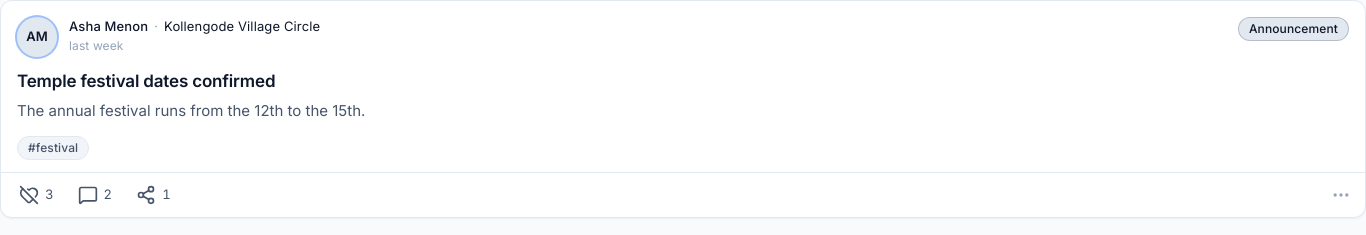
Test case: PostCard › rolls the like back when the request fails
The image size is (1366, 235).
Step 1. Click the button named "like this post" → x=36, y=195, box top-left (9, 179), bottom-right (64, 211)
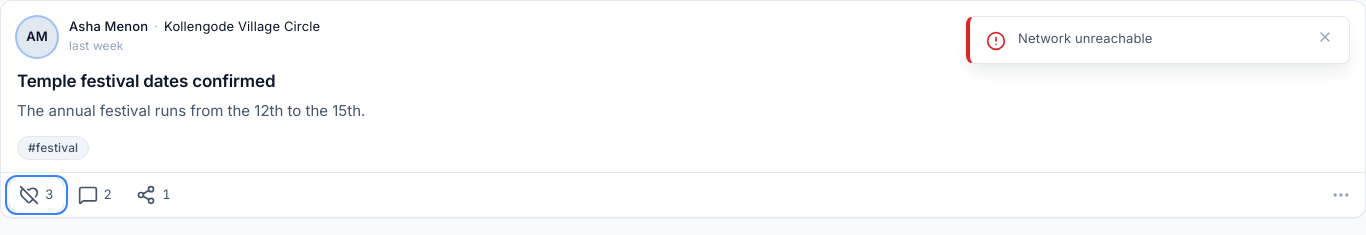
Check: the text "Network unreachable" is shown, box top-left (1018, 30), bottom-right (1152, 46)
